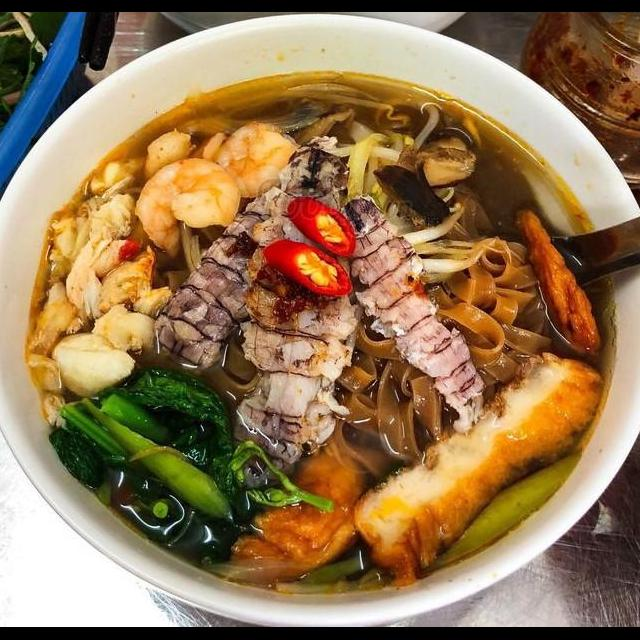bun hai san: (3, 57, 640, 611)
tom: (126, 156, 245, 262), (200, 120, 306, 208)
tom tit: (226, 128, 366, 494), (330, 192, 492, 440), (144, 178, 300, 382)
